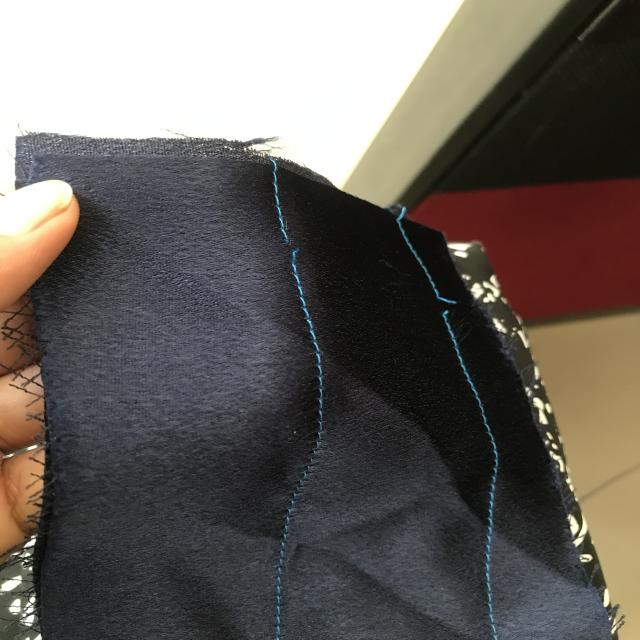broken: (418, 281, 463, 324), (272, 222, 313, 264)
good: (455, 342, 504, 434), (298, 296, 336, 380)
